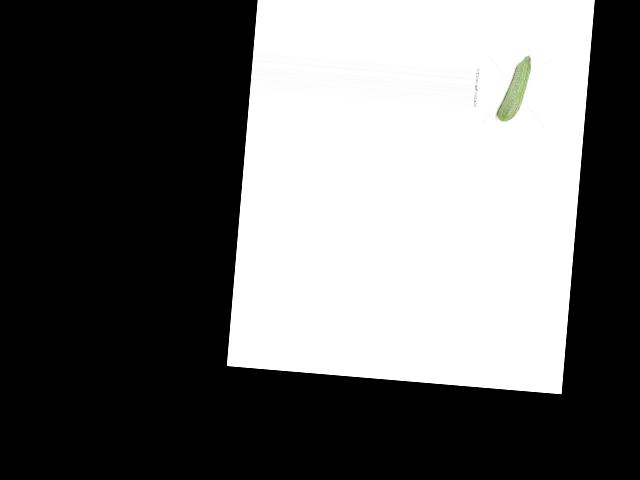cucumber: (496, 52, 531, 122)
